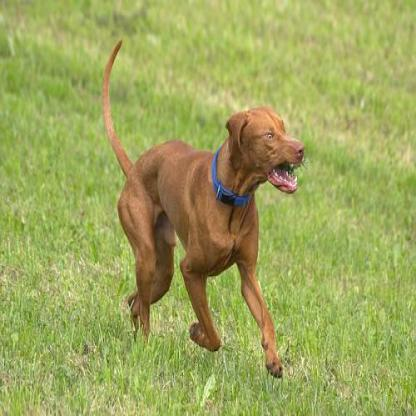vizsla: (100, 37, 304, 380)
